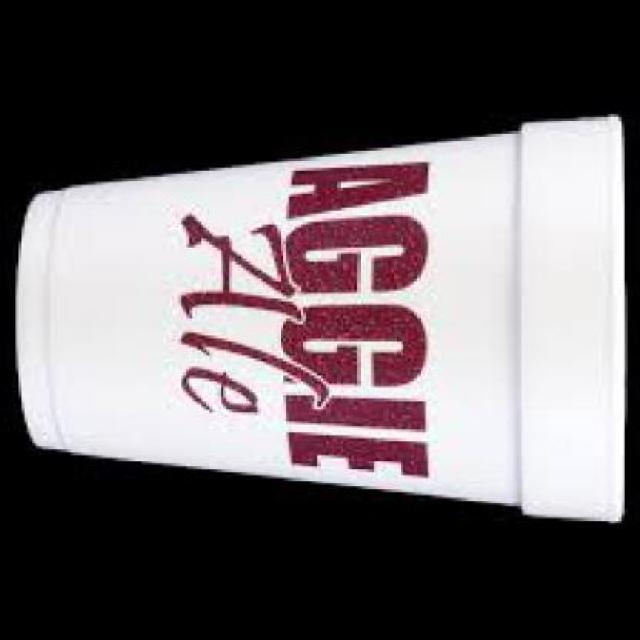PAPER: (20, 114, 626, 514)
